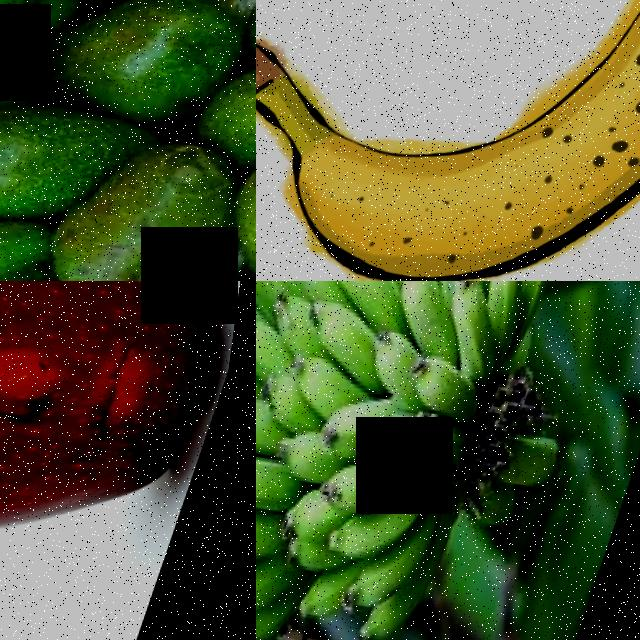apple: (0, 281, 256, 607)
avocado: (34, 119, 256, 281), (18, 0, 256, 141), (0, 78, 143, 252), (0, 2, 64, 143), (32, 0, 256, 21), (0, 0, 72, 61)
banana: (256, 281, 622, 640), (256, 0, 640, 281)
